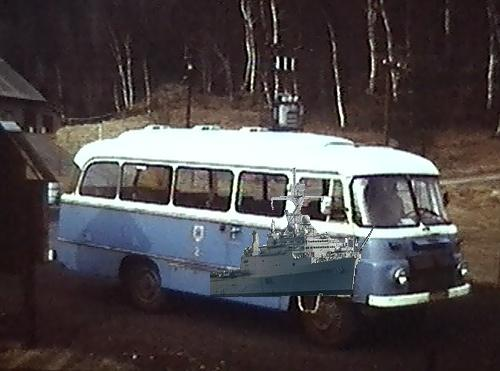tampered: (211, 168, 377, 297)
